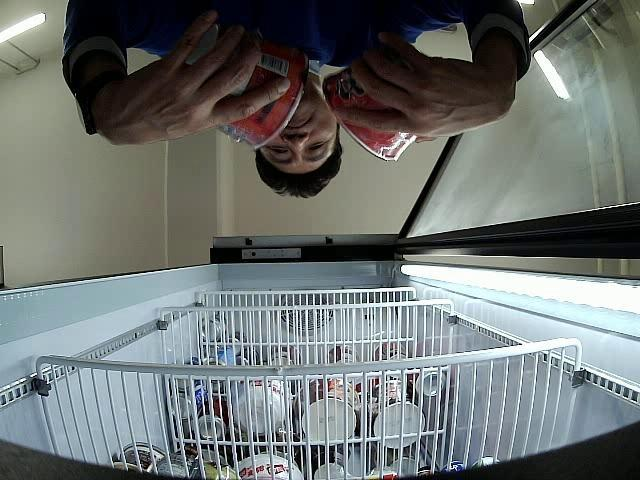01_ShinRamen_L: (184, 22, 309, 150), (322, 67, 417, 161)
